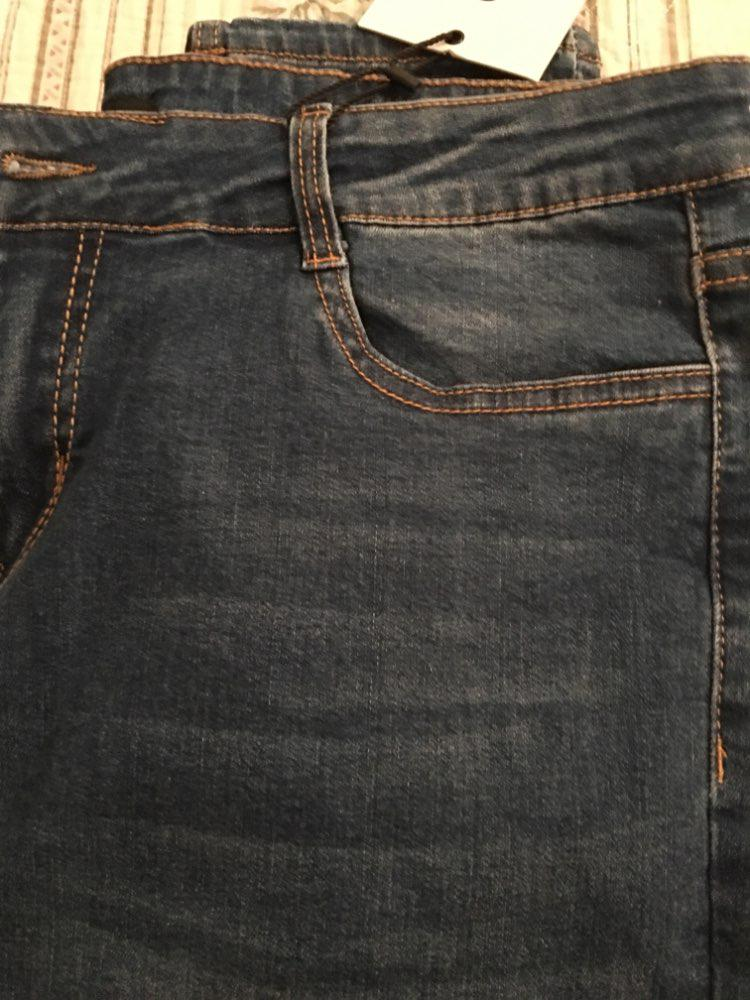jeans: (62, 53, 750, 932)
